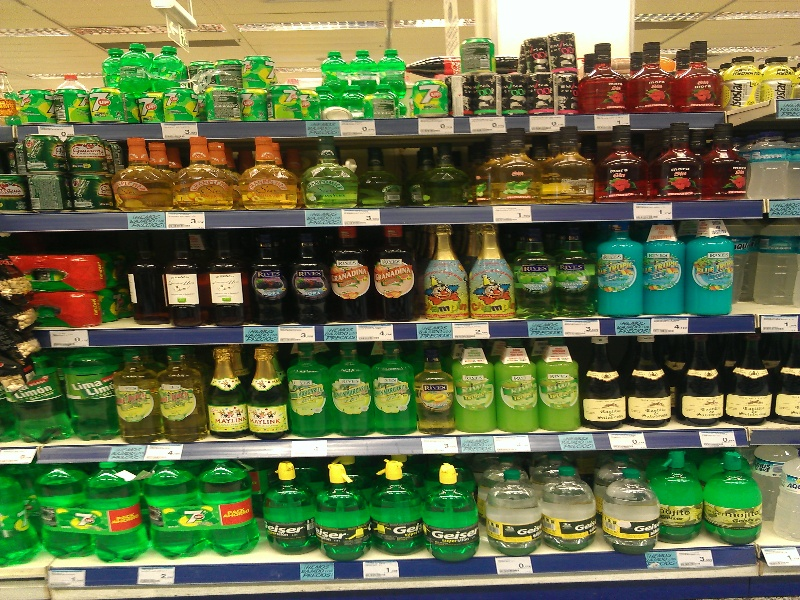lemonade: (203, 461, 263, 564), (145, 461, 206, 559), (370, 344, 419, 436), (288, 343, 332, 440), (453, 345, 498, 435)
